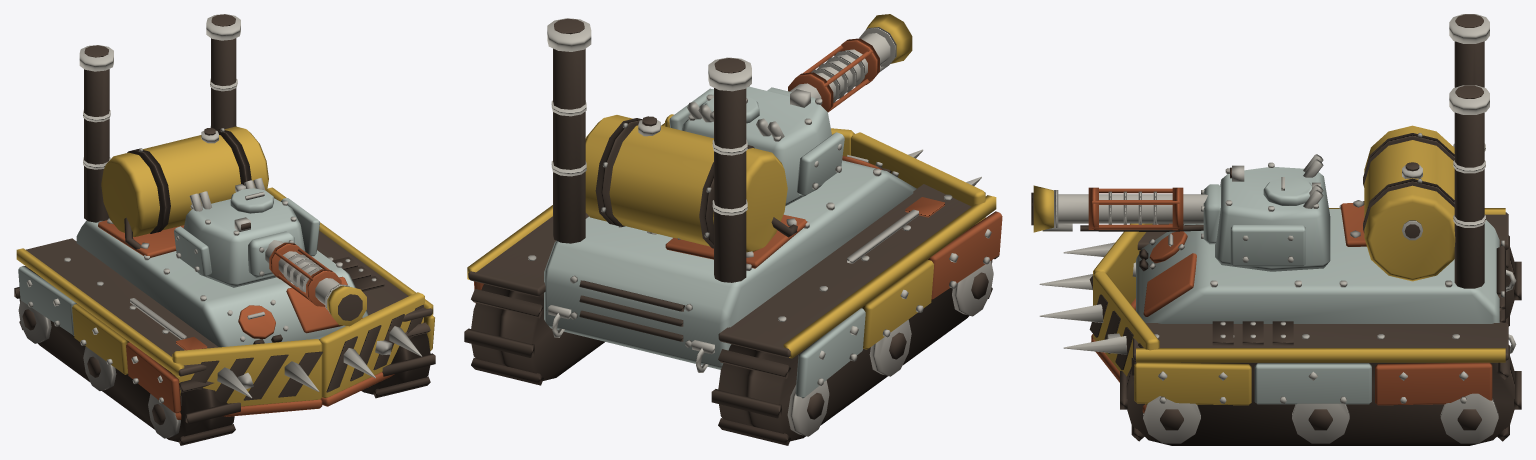
File: scorcher.glb
The picture shows the model from 3 angles, left to right: view 1: azimuth 30°, elevation 25°; view 2: azimuth 150°, elevation 25°; view 3: azimuth 270°, elevation 25°; orthographic projection. The views are drawn at different scales.
Parts seen in each view (by area): view 1: Hazard_details, Undercarriage_details, Team_details, Tracks, Steel_details, Turret_head, Deck_plates, Wheels, Turret_head_plates, Side_skirts, Ram_edge, Barrel_flame (+10 smaller); view 2: Undercarriage_details, Team_details, Hazard_details, Tracks, Steel_details, Turret_head, Wheels, Side_skirts, Turret_head_plates, Deck_plates, Barrel_flame, Barrel_cage (+5 smaller); view 3: Team_details, Hazard_details, Undercarriage_details, Tracks, Steel_details, Turret_head, Wheels, Side_skirts, Barrel_flame, Turret_head_plates, Deck_plates, Barrel_cage_bars (+7 smaller).
Part boxes in pixels (box(x1,y1,x2,y2)): Hazard_details: box(16, 126, 434, 406); Undercarriage_details: box(26, 14, 432, 405); Team_details: box(18, 220, 368, 347); Tracks: box(14, 266, 435, 445); Steel_details: box(26, 14, 422, 403); Turret_head: box(183, 198, 305, 287); Deck_plates: box(98, 220, 362, 333); Wheels: box(18, 300, 430, 438); Turret_head_plates: box(174, 198, 319, 276); Side_skirts: box(126, 342, 181, 413); Ram_edge: box(175, 372, 394, 419); Barrel_flame: box(265, 240, 339, 304); Undercarriage_details: box(468, 18, 971, 357); Team_details: box(544, 160, 916, 398); Hazard_details: box(467, 114, 996, 358); Tracks: box(464, 225, 999, 445); Steel_details: box(528, 18, 991, 385); Turret_head: box(681, 86, 831, 205); Wheels: box(471, 261, 993, 436); Side_skirts: box(474, 211, 1002, 303); Turret_head_plates: box(669, 88, 844, 196); Deck_plates: box(665, 214, 807, 268); Barrel_flame: box(789, 33, 890, 105); Barrel_cage: box(788, 38, 879, 111); Team_details: box(1136, 209, 1499, 404); Hazard_details: box(1093, 125, 1505, 405); Undercarriage_details: box(1089, 14, 1508, 372); Tracks: box(1120, 235, 1521, 445); Steel_details: box(1039, 14, 1516, 403); Turret_head: box(1215, 167, 1330, 271); Wheels: box(1143, 393, 1498, 443); Side_skirts: box(1375, 362, 1492, 405); Barrel_flame: box(1058, 194, 1207, 223); Turret_head_plates: box(1230, 225, 1305, 266); Deck_plates: box(1143, 203, 1366, 316); Barrel_cage_bars: box(1092, 188, 1179, 229).
Size of the model in its own units: 2.37 by 2.36 by 3.26.
